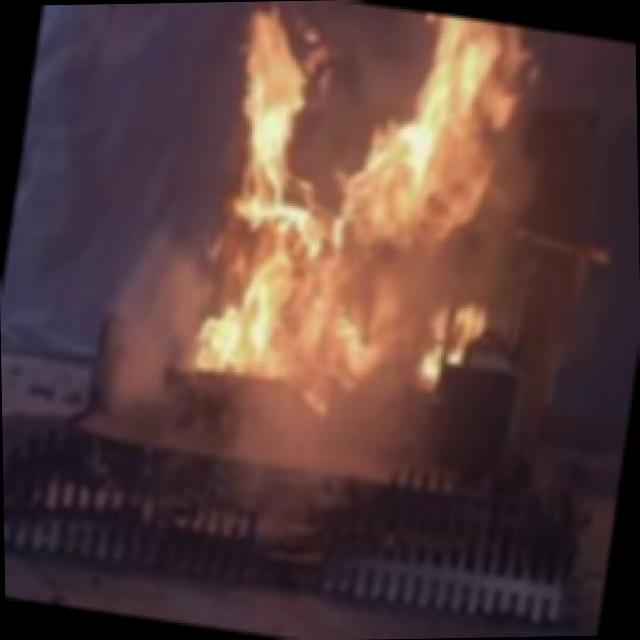fire: (142, 0, 581, 501)
